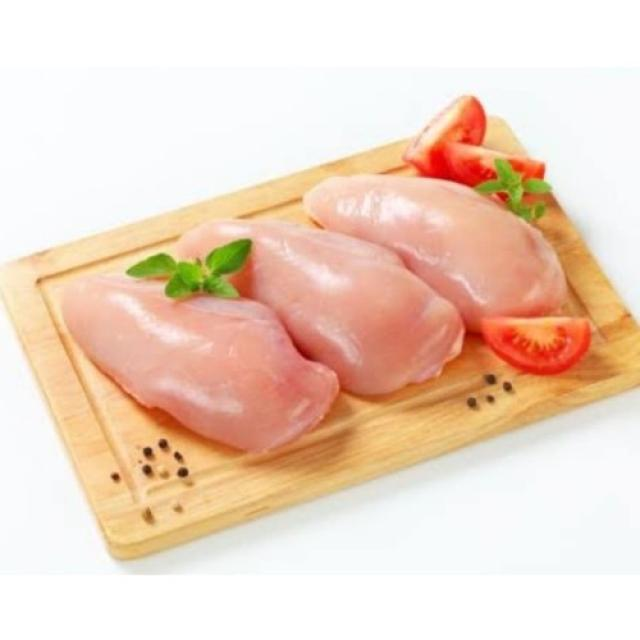chicken: (180, 216, 465, 395), (60, 285, 335, 444), (303, 178, 563, 307)
